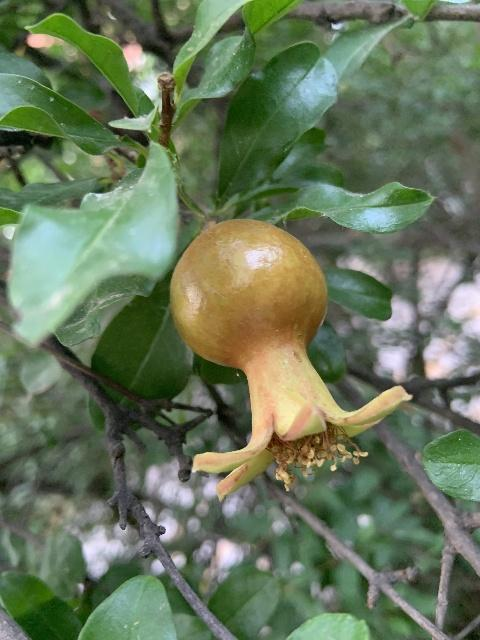early-fruit: (169, 217, 413, 503)
